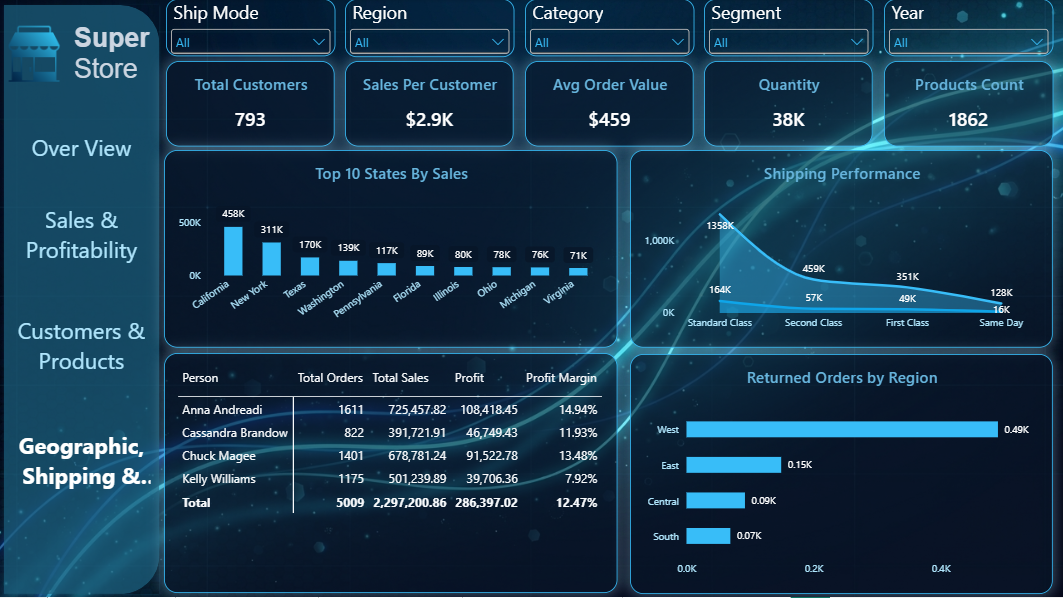

This screenshot's page, from the dashboard's own definition file:
{"tool":"powerbi","page":{"name":"Geographic & Shipping","canvas":[1280,720],"ordinal":4},"visuals":[{"type":"group","id":"g1","title":"Group 2","box":[3.2,7.2,191.4,709.4],"z":0},{"type":"shape","box":[5.2,7.2,187.4,709.4],"z":0,"group":"g2"},{"type":"group","id":"g2","title":"Group 1","box":[5.2,7.2,187.4,709.4],"z":0,"group":"g1"},{"type":"textbox","box":[89.6,28.7,103,81.5],"z":1000,"group":"g2"},{"type":"card","title":"Total Customers","fields":{"Values":["Measures (2).Total Customer"]},"box":[200.9,74.3,203.1,103],"z":1000},{"type":"actionButton","title":"Over View","box":[3.2,153.9,191.4,47.9],"z":1000,"group":"g1"},{"type":"image","box":[6.6,28.7,70.1,72.9],"z":2000,"group":"g2"},{"type":"card","title":"Sales Per Customer","fields":{"Values":["Measures (2).Sales Per Customer"]},"box":[417,74.3,203.1,103],"z":2000},{"type":"actionButton","box":[3.2,239.9,191.4,88.9],"z":2000,"group":"g1"},{"type":"card","title":"Products Count ","fields":{"Values":["Measures (2).Products Count"]},"box":[1065,74.1,203.7,103.2],"z":3000},{"type":"actionButton","box":[3.2,366.9,191.4,100.8],"z":3000,"group":"g1"},{"type":"card","title":"Quantity","fields":{"Values":["Measures (2).Total Quantity"]},"box":[849,74.3,203.1,103],"z":4000},{"type":"actionButton","box":[3.2,505.9,191.4,100.8],"z":4000,"group":"g1"},{"type":"card","title":"Avg Order Value","fields":{"Values":["Measures (2).Avg Orders Value"]},"box":[633,74.3,203.1,103],"z":5000},{"type":"slicer","fields":{"Values":["Fact_Orders.Ship Mode"]},"box":[200.9,0,203.7,68.8],"z":6000},{"type":"slicer","fields":{"Values":["Fact_Orders.Region"]},"box":[417,0,203.7,70.2],"z":7000},{"type":"slicer","fields":{"Values":["Fact_Orders.Category"]},"box":[633.1,0,203.7,68.8],"z":8000},{"type":"slicer","fields":{"Values":["Fact_Orders.Segment"]},"box":[849.2,0,203.7,68.8],"z":9000},{"type":"slicer","fields":{"Values":["Calendar.Year"]},"box":[1065.3,0,203.7,68.8],"z":9001},{"type":"lineStackedColumnComboChart","title":"Top 10 States By Sales","fields":{"Category":["Country.State"],"Y":["Measures (2).Total Sales"]},"box":[198.2,181.7,546.4,238.1],"z":9002},{"type":"areaChart","title":"Shipping Performance","fields":{"Category":["Fact_Orders.Ship Mode"],"Y":["Measures (2).Total Sales","Measures (2).Profit"]},"box":[759.7,181.7,509.2,238.1],"z":9003},{"type":"pivotTable","fields":{"Rows":["People.Person"],"Values":["Measures (2).Total Orders","Measures (2).Total Sales","Measures (2).Profit","Measures (2).Profit Margin"]},"box":[198.2,426.7,546.4,289],"z":9004},{"type":"clusteredBarChart","title":"Returned Orders by Region","fields":{"Category":["Fact_Orders.Region"],"Y":["CountNonNull(Fact_Orders.Returned Orders)"]},"box":[760,427,509,289],"z":9005}]}

Visuals, with their boxes in screenshot pixels (x1, y1, x2, y2), scaled from the page's 1280x720 canvas onto the 1063x598 screenshot:
"Group 2" group: {"x1": 3, "y1": 6, "x2": 162, "y2": 595}
shape: {"x1": 4, "y1": 6, "x2": 160, "y2": 595}
"Group 1" group: {"x1": 4, "y1": 6, "x2": 160, "y2": 595}
textbox: {"x1": 74, "y1": 24, "x2": 160, "y2": 92}
"Total Customers" card: {"x1": 167, "y1": 62, "x2": 336, "y2": 147}
"Over View" actionButton: {"x1": 3, "y1": 128, "x2": 162, "y2": 168}
image: {"x1": 5, "y1": 24, "x2": 64, "y2": 84}
"Sales Per Customer" card: {"x1": 346, "y1": 62, "x2": 515, "y2": 147}
actionButton: {"x1": 3, "y1": 199, "x2": 162, "y2": 273}
"Products Count " card: {"x1": 884, "y1": 62, "x2": 1054, "y2": 147}
actionButton: {"x1": 3, "y1": 305, "x2": 162, "y2": 388}
"Quantity" card: {"x1": 705, "y1": 62, "x2": 874, "y2": 147}
actionButton: {"x1": 3, "y1": 420, "x2": 162, "y2": 504}
"Avg Order Value" card: {"x1": 526, "y1": 62, "x2": 694, "y2": 147}
slicer - Fact_Orders.Ship Mode: {"x1": 167, "y1": 0, "x2": 336, "y2": 57}
slicer - Fact_Orders.Region: {"x1": 346, "y1": 0, "x2": 515, "y2": 58}
slicer - Fact_Orders.Category: {"x1": 526, "y1": 0, "x2": 695, "y2": 57}
slicer - Fact_Orders.Segment: {"x1": 705, "y1": 0, "x2": 874, "y2": 57}
slicer - Calendar.Year: {"x1": 885, "y1": 0, "x2": 1054, "y2": 57}
"Top 10 States By Sales" lineStackedColumnComboChart: {"x1": 165, "y1": 151, "x2": 618, "y2": 349}
"Shipping Performance" areaChart: {"x1": 631, "y1": 151, "x2": 1054, "y2": 349}
pivotTable - People.Person x Measures (2).Total Orders: {"x1": 165, "y1": 354, "x2": 618, "y2": 594}
"Returned Orders by Region" clusteredBarChart: {"x1": 631, "y1": 355, "x2": 1054, "y2": 595}
